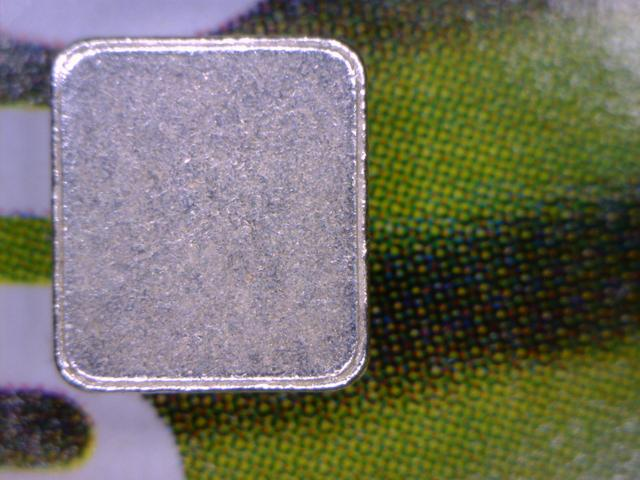nok: (40, 36, 374, 393)
